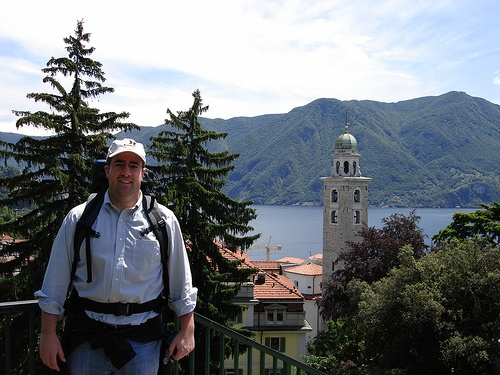head: (103, 137, 148, 197)
person: (45, 138, 188, 369)
